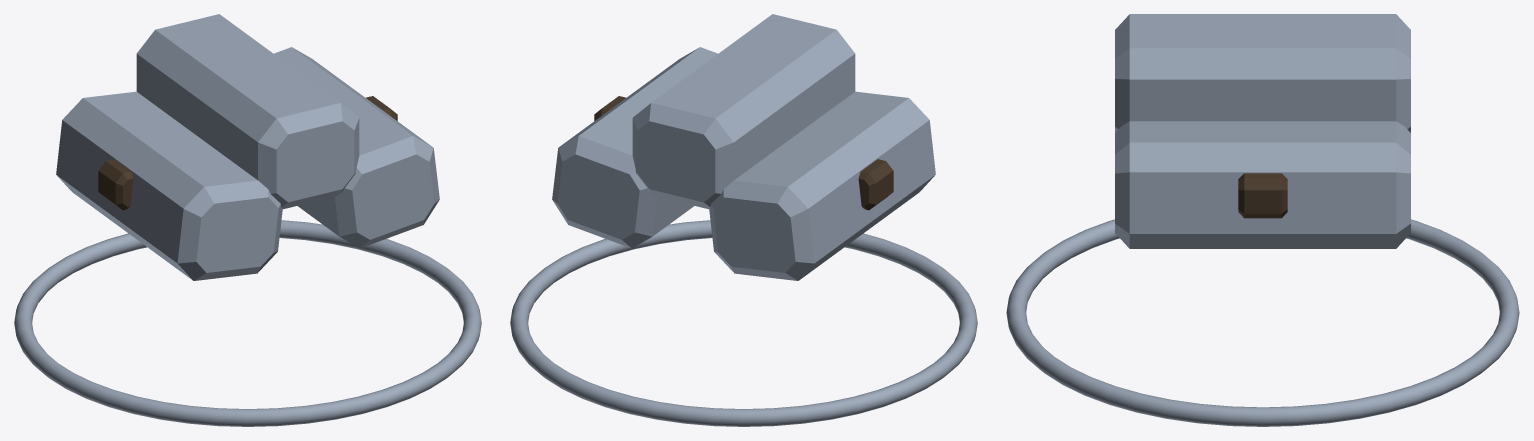
The model's file is pickup_alloy.glb.
The picture shows the model from 3 angles, left to right: view 1: azimuth 30°, elevation 25°; view 2: azimuth 150°, elevation 25°; view 3: azimuth 270°, elevation 25°; orthographic projection. The views are drawn at different scales.
Visible parts, largest first — view 1: alloy_ingot0, alloy_ingot1, alloy_ring, alloy_ingot2, alloy_strap; view 2: alloy_ingot0, alloy_ingot1, alloy_ring, alloy_ingot2, alloy_strap; view 3: alloy_ingot2, alloy_ingot1, alloy_ring, alloy_strap.
Part boxes in pixels (left/top/right/bottom): alloy_ingot0: left=56, top=91, right=282, bottom=280; alloy_ingot1: left=136, top=14, right=359, bottom=209; alloy_ring: left=14, top=220, right=481, bottom=426; alloy_ingot2: left=274, top=47, right=439, bottom=248; alloy_strap: left=98, top=96, right=397, bottom=210; alloy_ingot0: left=709, top=91, right=935, bottom=280; alloy_ingot1: left=632, top=14, right=855, bottom=209; alloy_ring: left=510, top=220, right=977, bottom=426; alloy_ingot2: left=552, top=47, right=717, bottom=248; alloy_strap: left=594, top=96, right=893, bottom=210; alloy_ingot2: left=1115, top=121, right=1410, bottom=248; alloy_ingot1: left=1115, top=14, right=1410, bottom=132; alloy_ring: left=1006, top=219, right=1519, bottom=426; alloy_strap: left=1238, top=173, right=1287, bottom=218.
Bounding box in the file's own units: 0.624 × 0.39 × 0.624.
